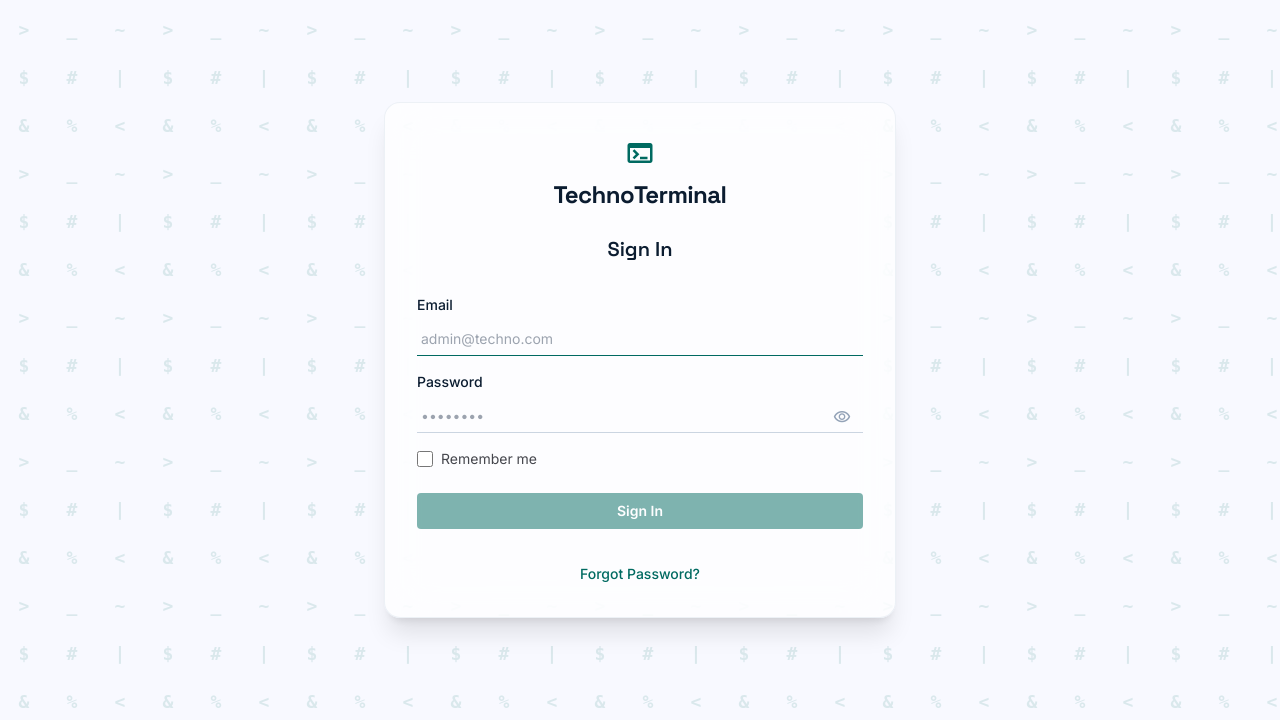
Test: LoginPage › shows rate limit message on 429 response with Retry-After
Type "a@b.com" into the field labelled "Email".
click(640, 340); type("a@b.com")  # box x1=417 y1=323 x2=863 y2=356
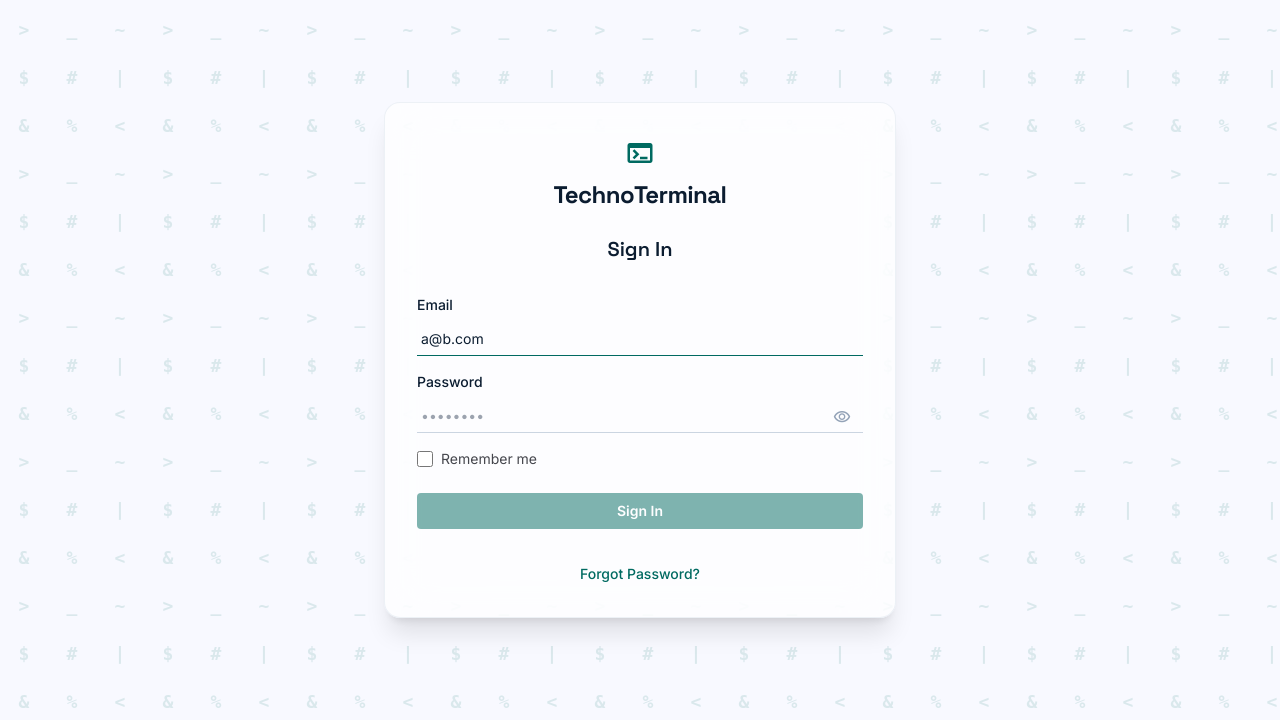
Type "pwd" into the password field labelled "Password".
click(640, 416); type("pwd")  # box x1=417 y1=400 x2=863 y2=433
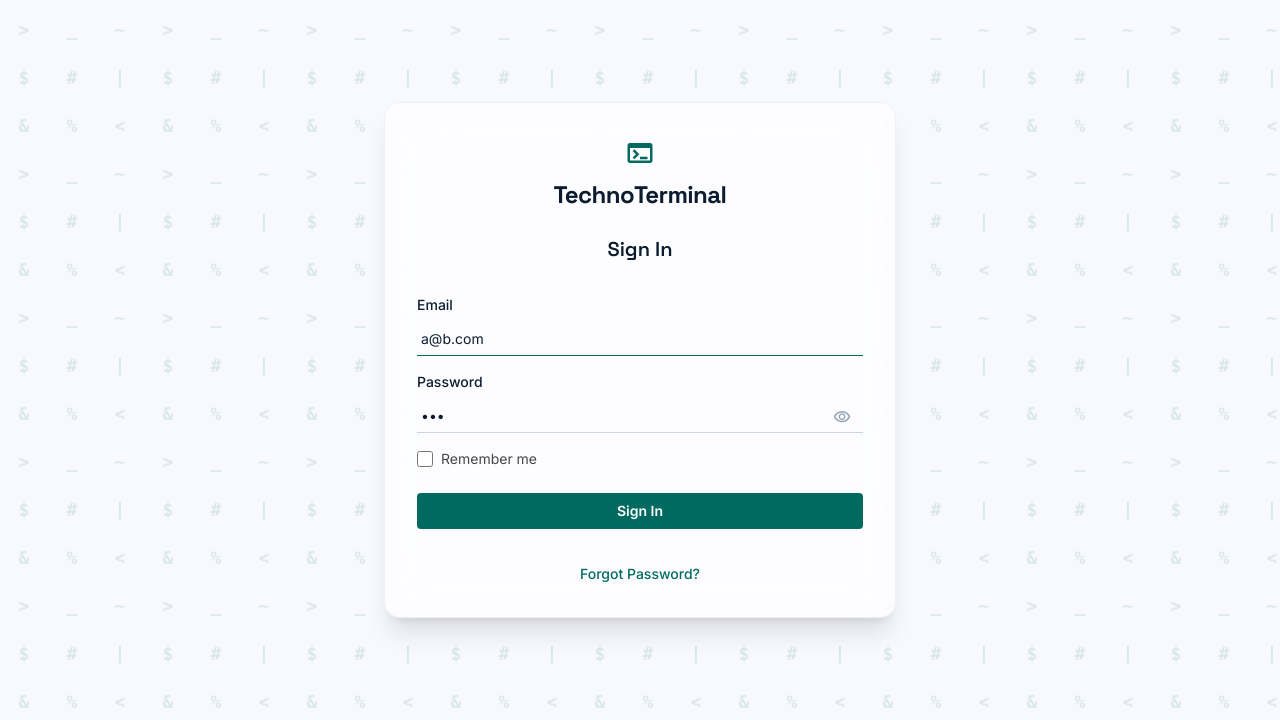
Click the button "Sign In".
click(640, 511)  # box x1=417 y1=493 x2=863 y2=529
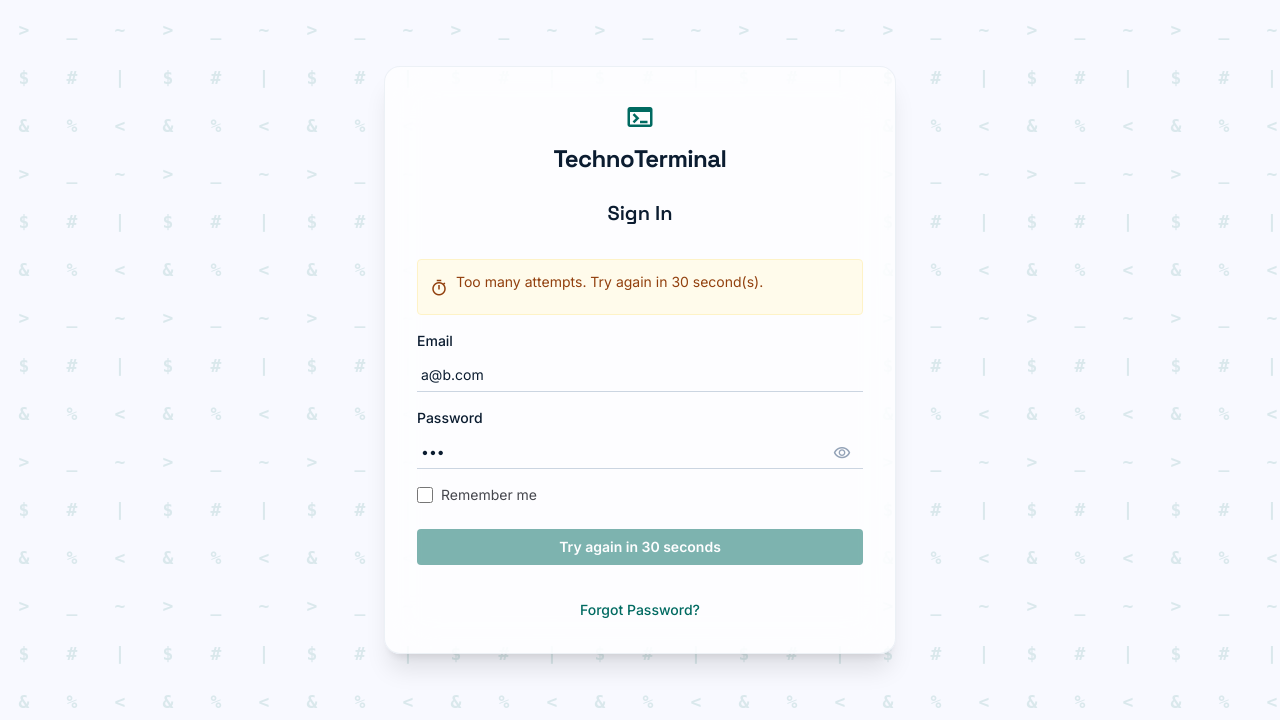
Check: the text "Too many attempts. Try again in 30 second(s)." is shown, box x1=456 y1=272 x2=763 y2=292
